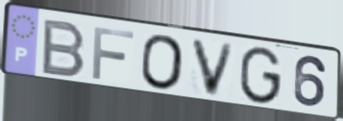6: (293, 53, 329, 112)
B: (39, 17, 88, 80)
F: (90, 25, 137, 82)
G: (237, 45, 284, 107)
O: (140, 33, 186, 93)
V: (188, 37, 238, 100)
